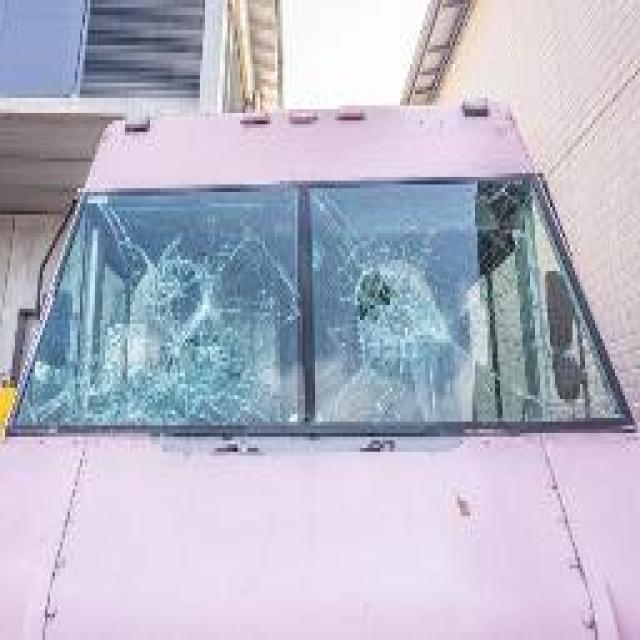Windshield: (32, 192, 608, 422)
